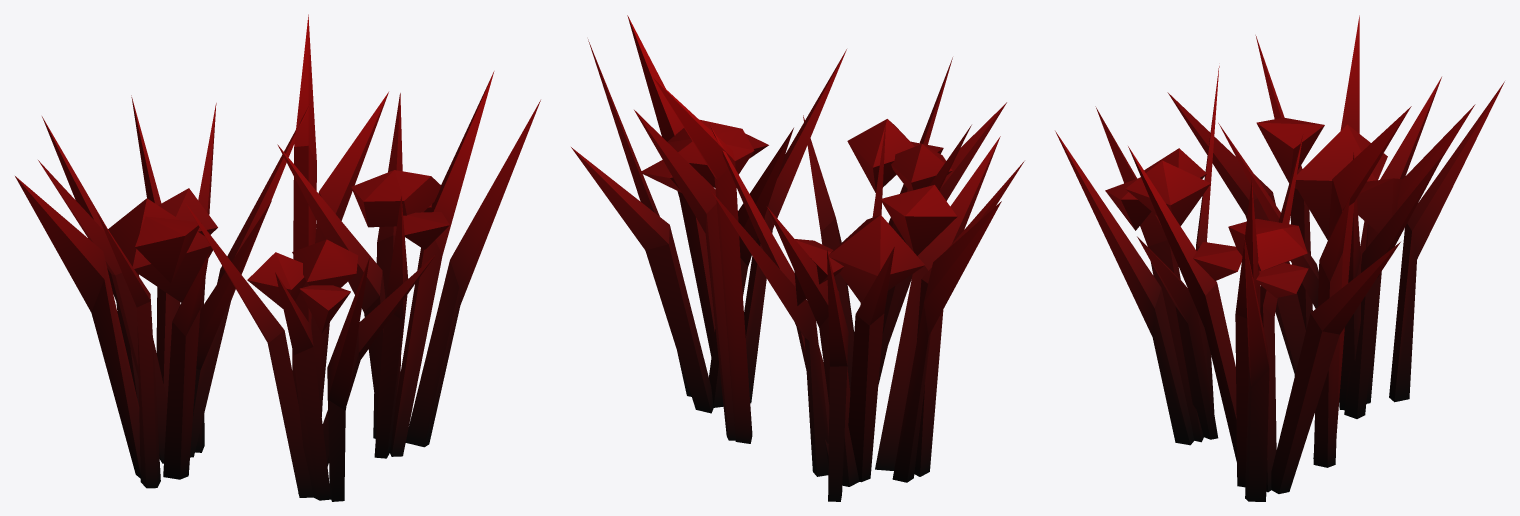
The model's file is SM_Env_Plant_Grass_Flower_02.fbx.
3 renders of one model, left to right at view 1: azimuth 30°, elevation 25°; view 2: azimuth 150°, elevation 25°; view 3: azimuth 270°, elevation 25°, orthographic.
Parts seen in each view (by area): view 1: SM_Env_Plant_Grass_Flower_02; view 2: SM_Env_Plant_Grass_Flower_02; view 3: SM_Env_Plant_Grass_Flower_02.
Boxes of the visible parts, bbox=[...] form: SM_Env_Plant_Grass_Flower_02: bbox=[15, 14, 540, 501]; SM_Env_Plant_Grass_Flower_02: bbox=[571, 15, 1024, 501]; SM_Env_Plant_Grass_Flower_02: bbox=[1055, 15, 1504, 501].
Bounding box in the file's own units: 255 × 197 × 214.
